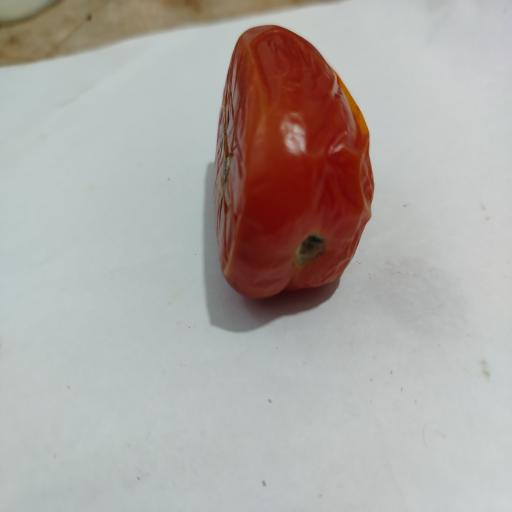spoiled: (215, 26, 374, 298)
